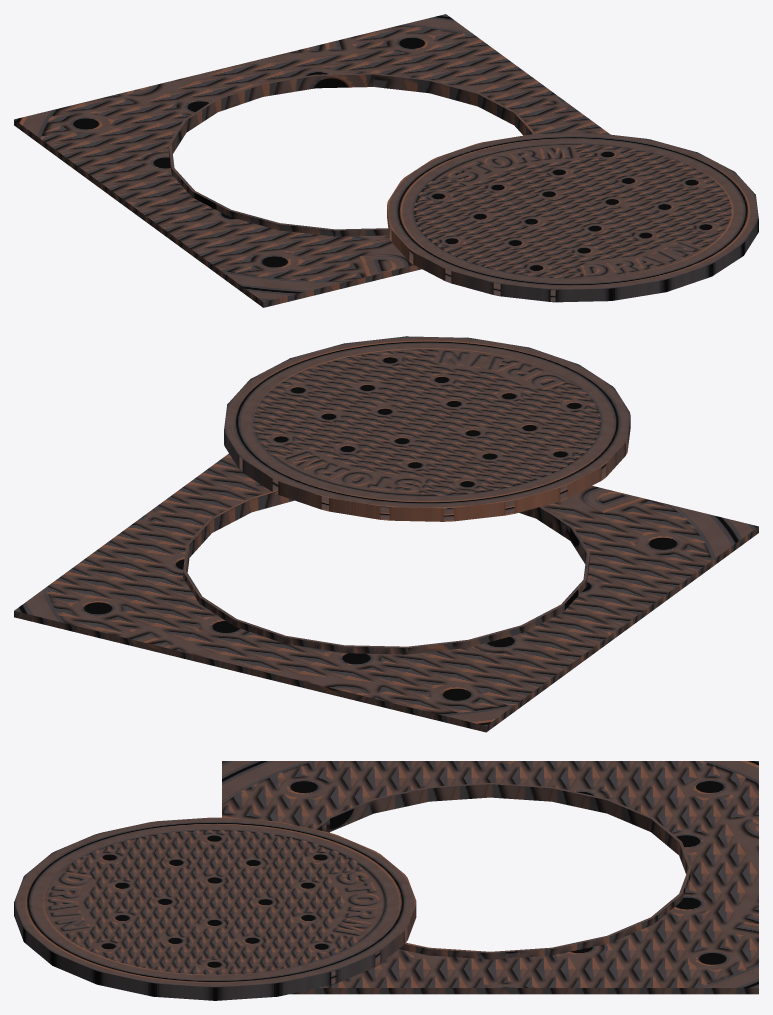
Rendered from Alcantarilla.fbx.
3 views of the same model, one above another, from view 1: azimuth 30°, elevation 25°; view 2: azimuth 150°, elevation 25°; view 3: azimuth 270°, elevation 25° (orthographic). The views are drawn at different scales.
Visible parts, largest first — view 1: polySurface2; view 2: polySurface2; view 3: polySurface2.
Part boxes in pixels (bbox=[...]): polySurface2: bbox=[14, 14, 758, 307]; polySurface2: bbox=[14, 336, 758, 732]; polySurface2: bbox=[14, 761, 758, 1000].
Bounding box in the file's own units: 2.89 × 0.145 × 3.7.
Materials: 1 (1 with a texture image).
